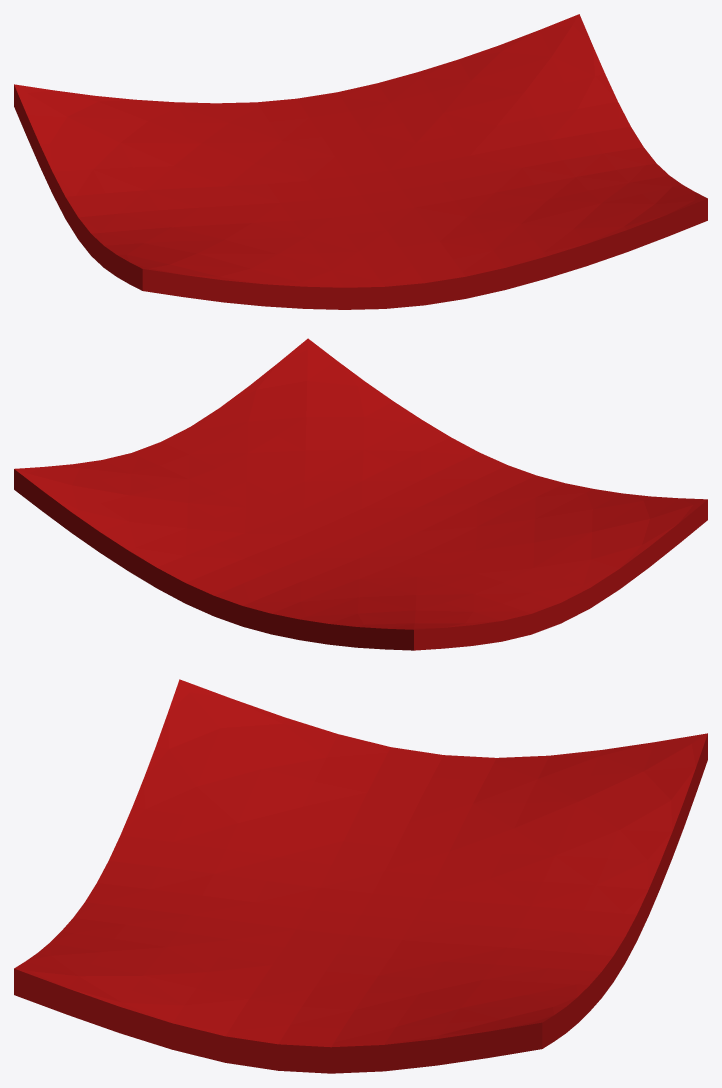
File: sushi_tray.obj
The picture shows the model from 3 angles, top to bottom: view 1: azimuth 30°, elevation 25°; view 2: azimuth 150°, elevation 25°; view 3: azimuth 270°, elevation 25°; orthographic projection. The views are drawn at different scales.
Visible parts, largest first — view 1: abstract_Cube.002; view 2: abstract_Cube.002; view 3: abstract_Cube.002.
Part boxes in pixels (box(x1,y1,x2,y2)): abstract_Cube.002: box(14, 14, 707, 309); abstract_Cube.002: box(14, 338, 707, 650); abstract_Cube.002: box(14, 679, 707, 1073).
Size of the model in its own units: 0.3638 by 0.0448 by 0.3108.
